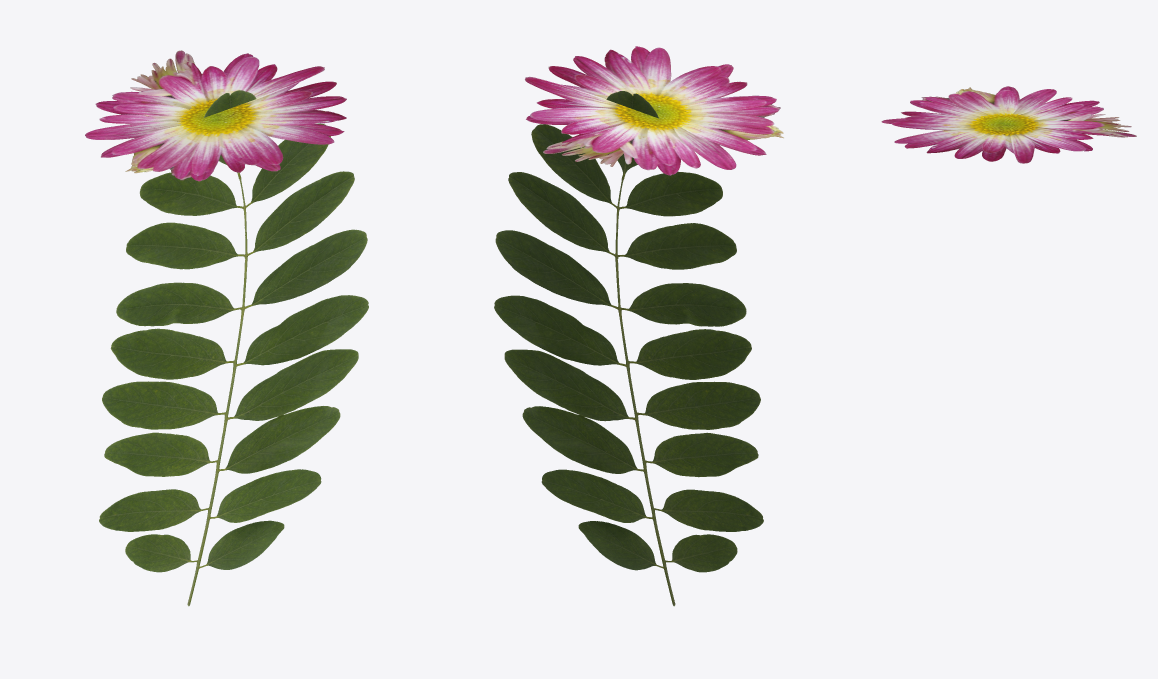
Rendered from Plant1.FBX.
3 views of the same model, side by side, from view 1: azimuth 30°, elevation 25°; view 2: azimuth 150°, elevation 25°; view 3: azimuth 270°, elevation 25° (orthographic). The views are drawn at different scales.
Visible parts, largest first — view 1: Plane005, Plane006; view 2: Plane005, Plane006; view 3: Plane006.
Boxes of the visible parts, box(x1,y1,x2,y2) form: Plane005: box(99, 90, 368, 606); Plane006: box(85, 50, 346, 181); Plane005: box(494, 91, 763, 606); Plane006: box(525, 46, 783, 175); Plane006: box(881, 86, 1136, 163).
Size of the model in its own units: 178 by 131 by 272.
2 materials, 2 textured.
